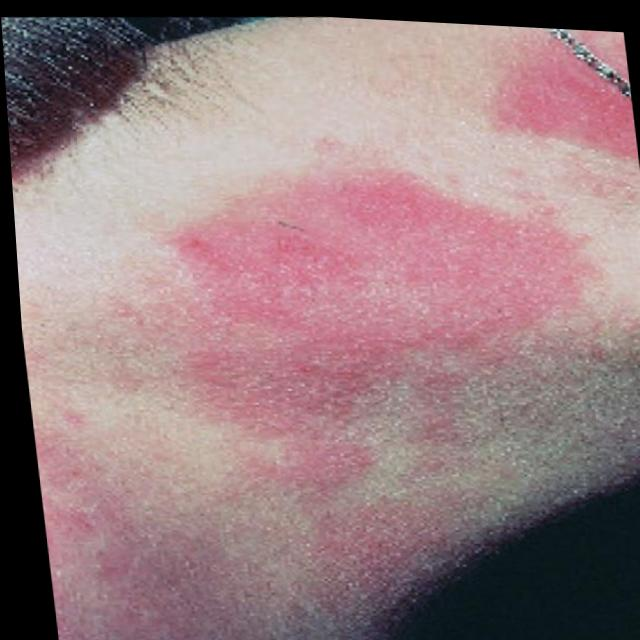Eczema: (184, 183, 552, 383), (39, 462, 315, 640), (498, 39, 639, 165)
